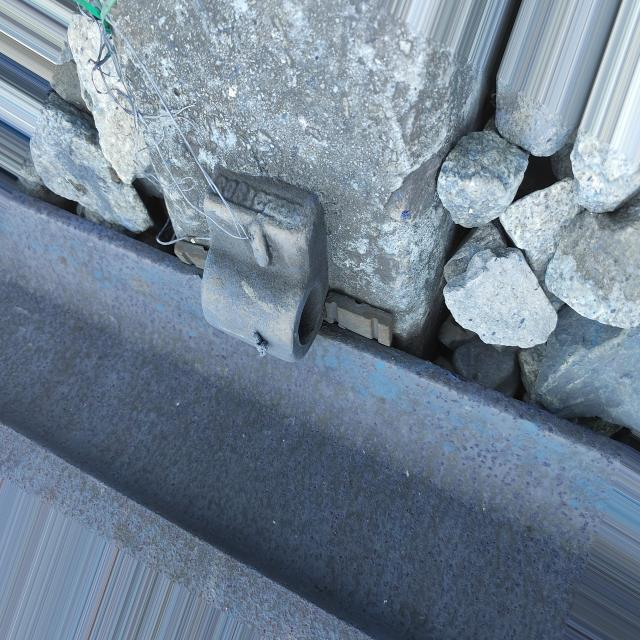Good Fasteners: (173, 131, 371, 399)
